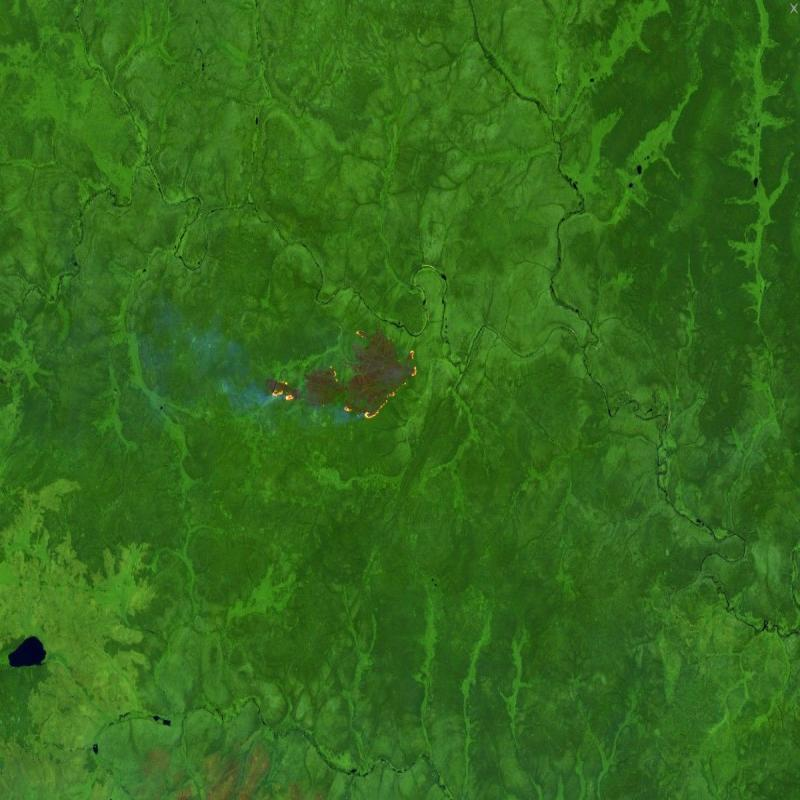fire: (265, 324, 424, 438)
